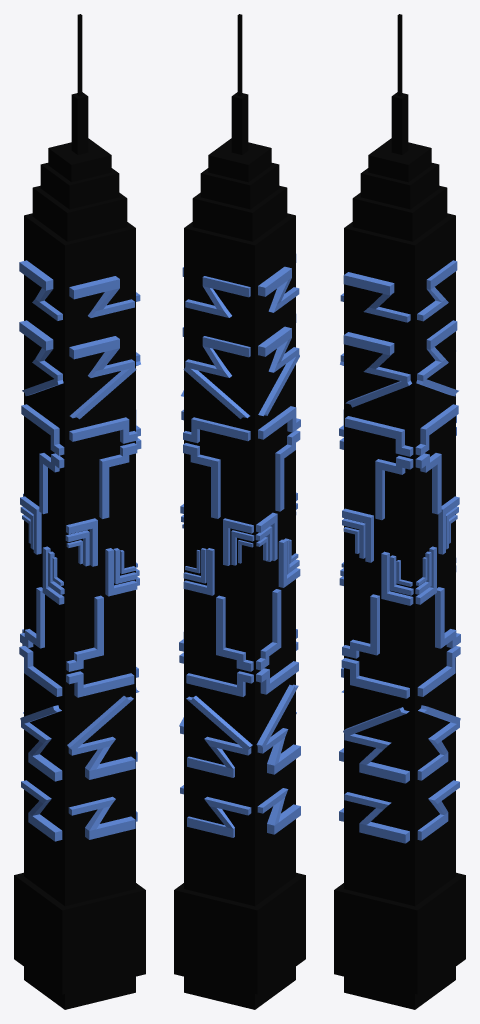
File: skyscraper.fbx
The picture shows the model from 3 angles, left to right: view 1: azimuth 30°, elevation 25°; view 2: azimuth 150°, elevation 25°; view 3: azimuth 330°, elevation 25°; orthographic projection.
Parts seen in each view (by area): view 1: Cube, Cube.002; view 2: Cube, Cube.002; view 3: Cube, Cube.002.
Part boxes in pixels (x1=…): Cube: x1=14, y1=14, x2=145, y2=1009; Cube.002: x1=19, y1=260, x2=141, y2=841; Cube: x1=174, y1=14, x2=305, y2=1009; Cube.002: x1=179, y1=254, x2=300, y2=837; Cube: x1=334, y1=14, x2=465, y2=1009; Cube.002: x1=339, y1=260, x2=460, y2=843.
Size of the model in its own units: 239 by 2609 by 239.
